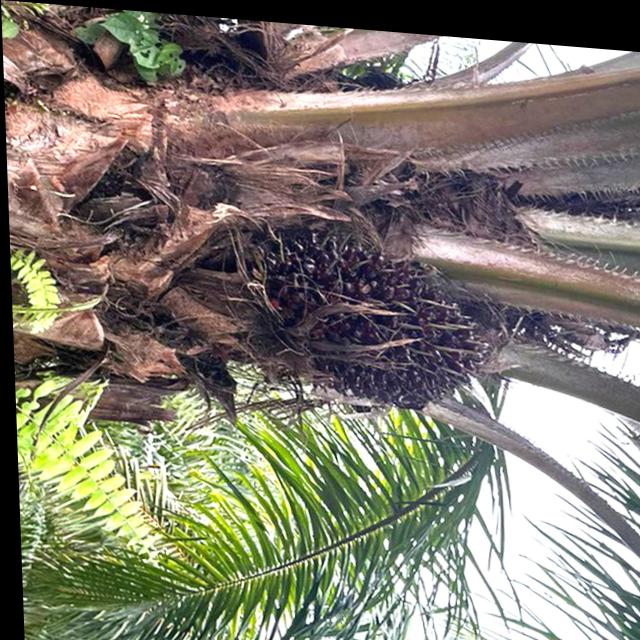ripe: (250, 230, 493, 407)
